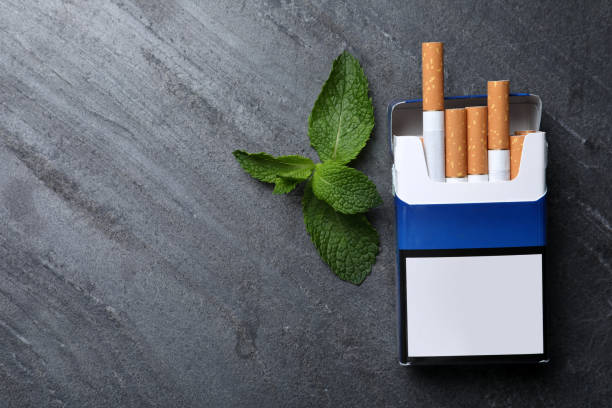cigarette: (386, 92, 549, 366), (421, 40, 445, 184), (488, 80, 510, 181), (446, 107, 468, 183), (468, 105, 488, 182), (510, 134, 526, 180)
